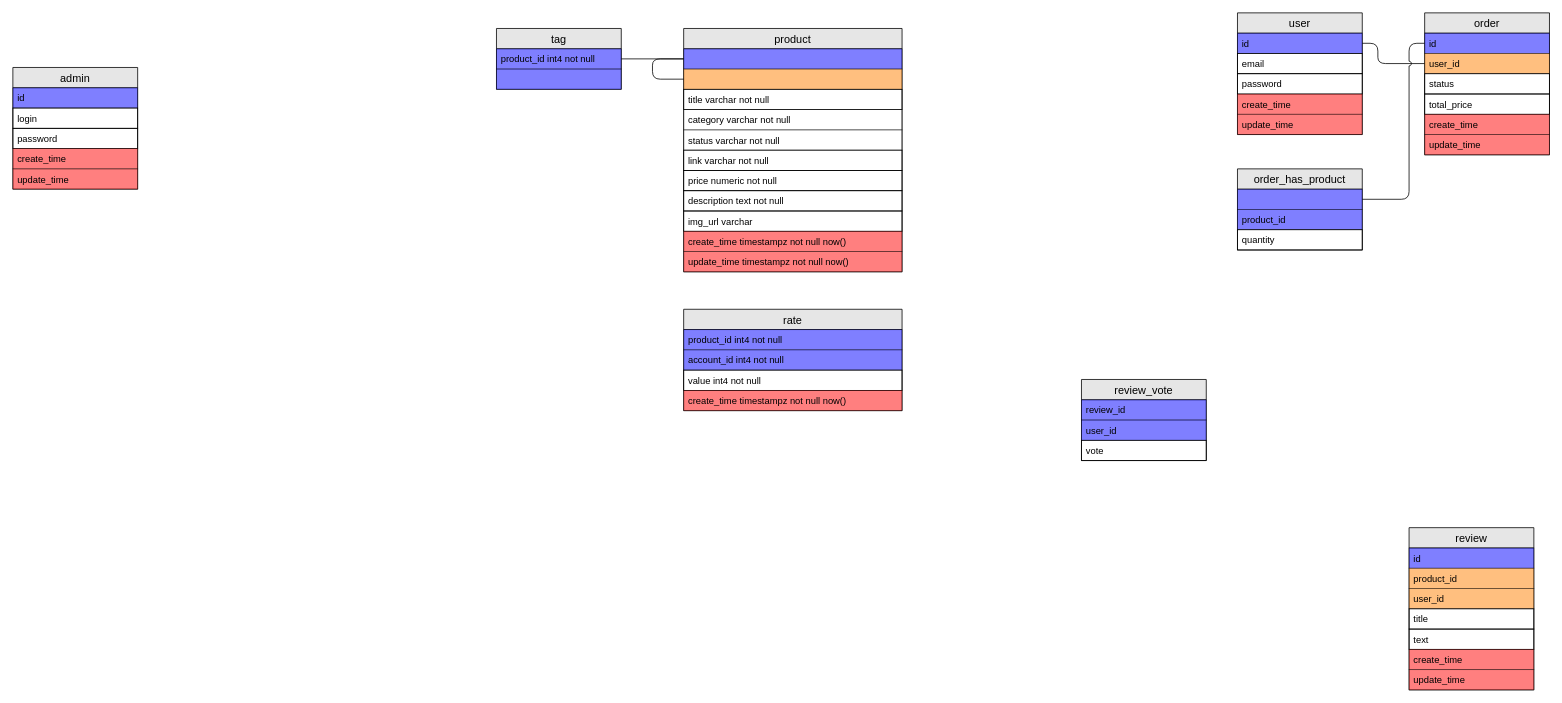
This 1562x703 diagram has some shape labels left out. Here are the shapes that lost their labels. From the top down, the centre of each, then its label:
(558,78): tag varchar not null
(792,58): id serial not null
(792,78): parent_id int4
(1299,198): order_id
